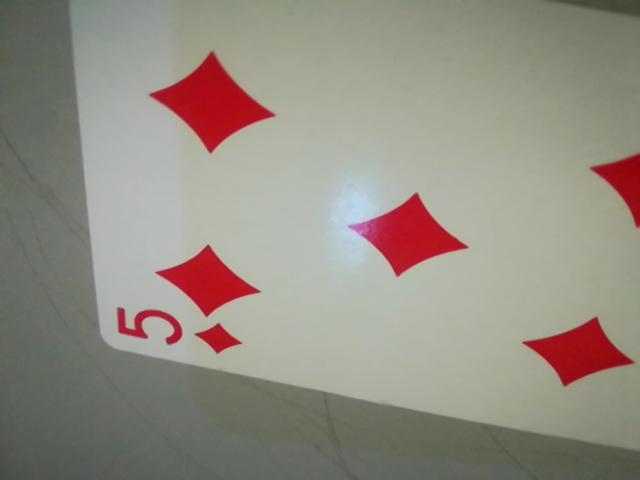fk 5: (100, 294, 250, 358)
